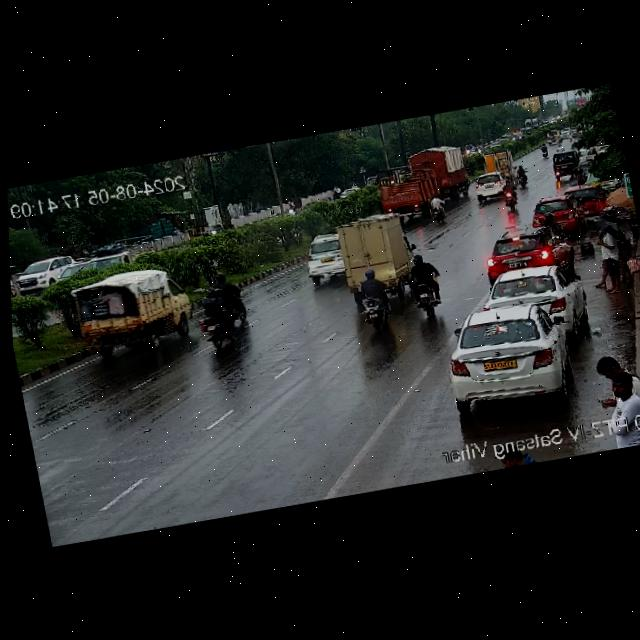car: (442, 298, 581, 413), (483, 259, 586, 332), (475, 219, 575, 281), (528, 187, 587, 242), (300, 228, 349, 293), (16, 251, 79, 294), (468, 170, 514, 204), (567, 178, 604, 213), (549, 149, 582, 178), (544, 129, 562, 146), (559, 126, 575, 140), (540, 141, 549, 159), (555, 142, 564, 152)
motorcycle: (194, 267, 259, 350), (402, 249, 447, 319), (349, 265, 397, 329), (499, 182, 523, 211), (540, 211, 564, 239), (510, 163, 532, 190), (429, 194, 447, 224)
person: (593, 354, 640, 416), (596, 225, 626, 288), (493, 446, 532, 470), (595, 192, 610, 212)
truck: (62, 261, 195, 364), (332, 204, 424, 288), (408, 139, 473, 199), (376, 162, 430, 224), (478, 148, 514, 177)
